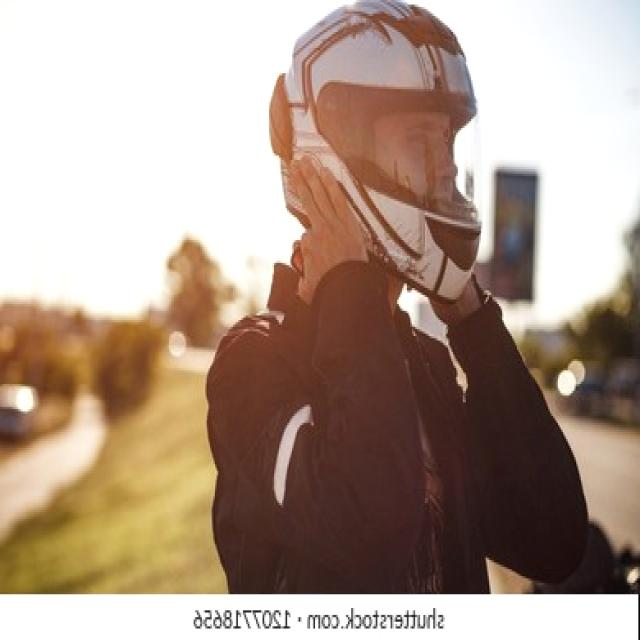helmet: (271, 0, 479, 299)
